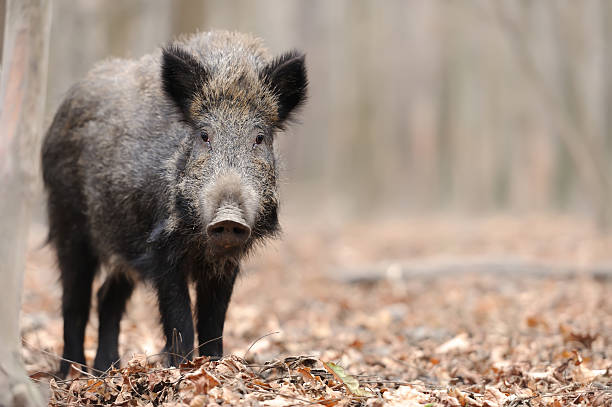pig: (18, 43, 313, 349)
